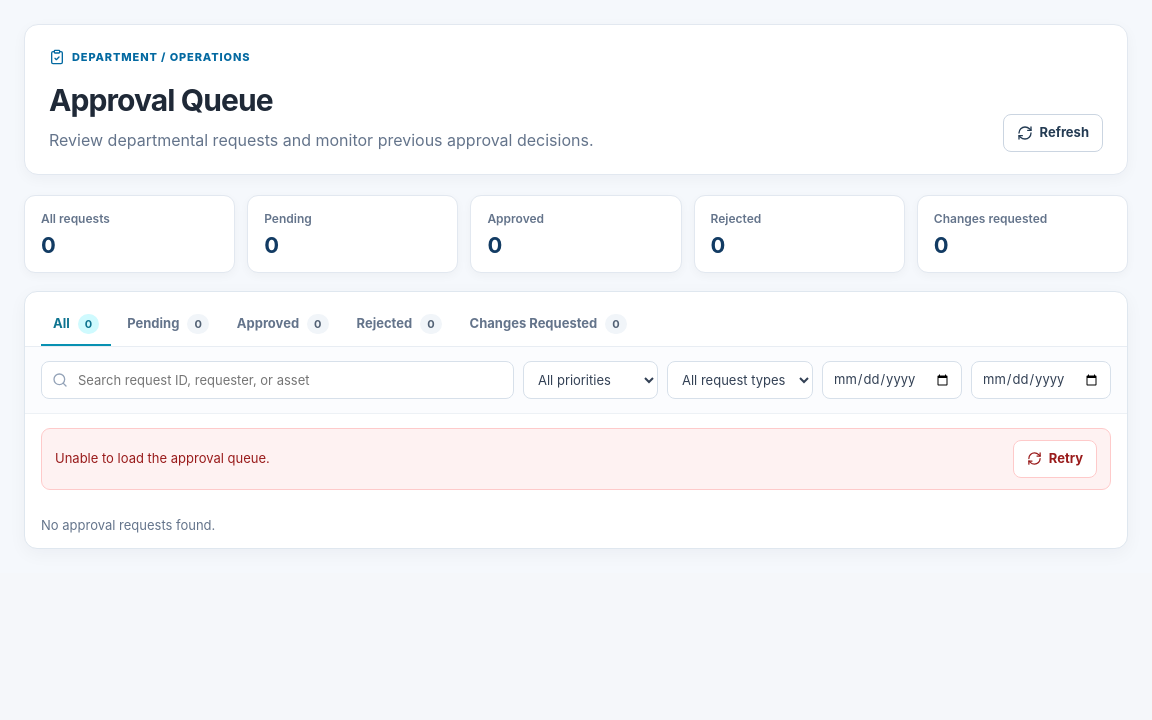
Test: shows load errors with retry and an accurate empty state
The image size is (1152, 720).
expect the message shows "Unable to load the approval queue.": met, box x1=55 y1=450 x2=270 y2=466
Click the button "Retry" at point(1055, 459), box x1=1013 y1=440 x2=1097 y2=478
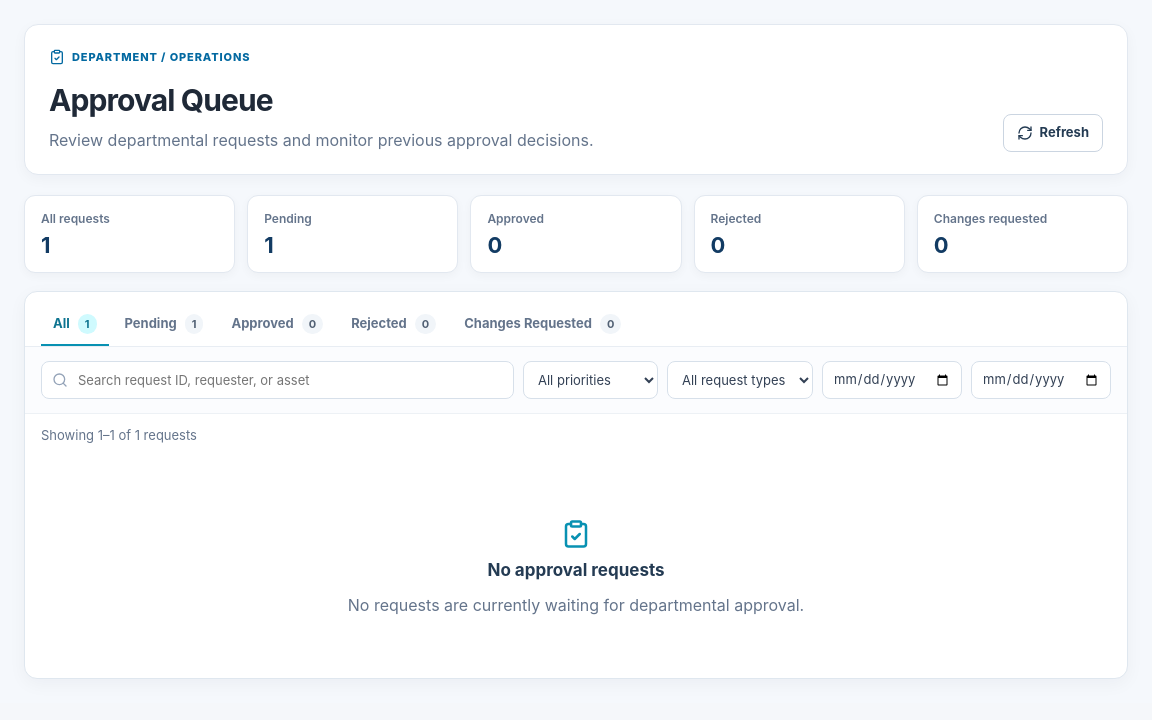
expect the text "No requests are currently waiting for departmental approval." is shown: met, box x1=348 y1=593 x2=804 y2=617
